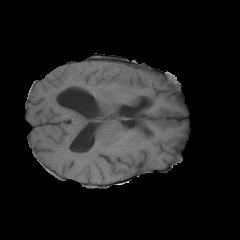glioma: (48, 64, 155, 103)
